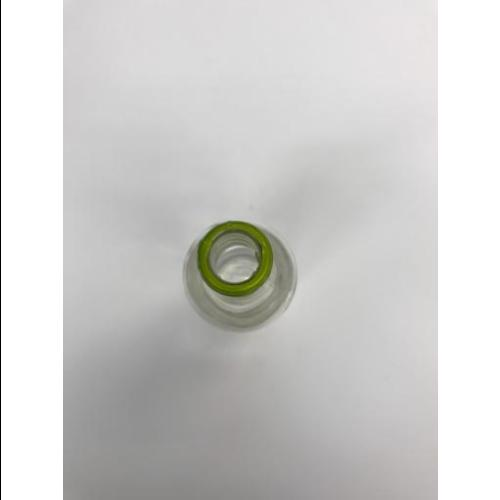glass: (194, 220, 291, 320)
